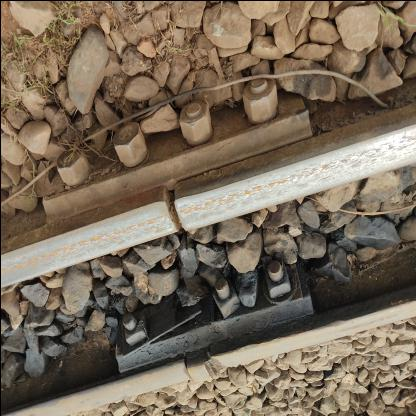Defective 3: (94, 254, 318, 362)
